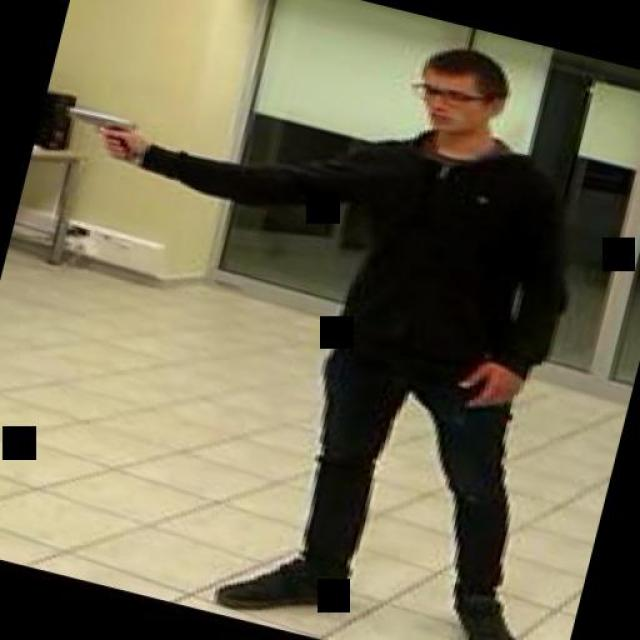gun: (55, 99, 146, 162)
